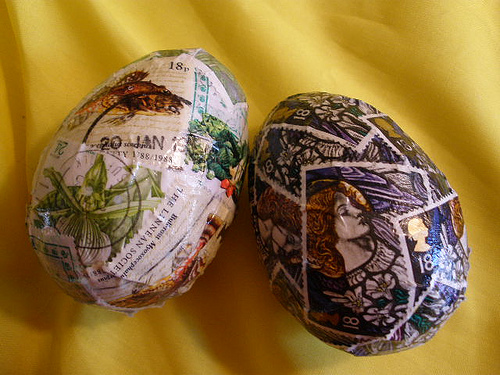egg: (246, 91, 471, 359), (26, 48, 247, 314)
